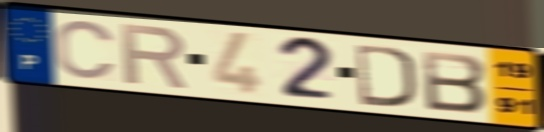2: (271, 35, 343, 105)
4: (209, 29, 267, 99)
B: (419, 48, 490, 115)
C: (53, 18, 120, 82)
D: (353, 41, 419, 110)
R: (118, 21, 191, 91)
